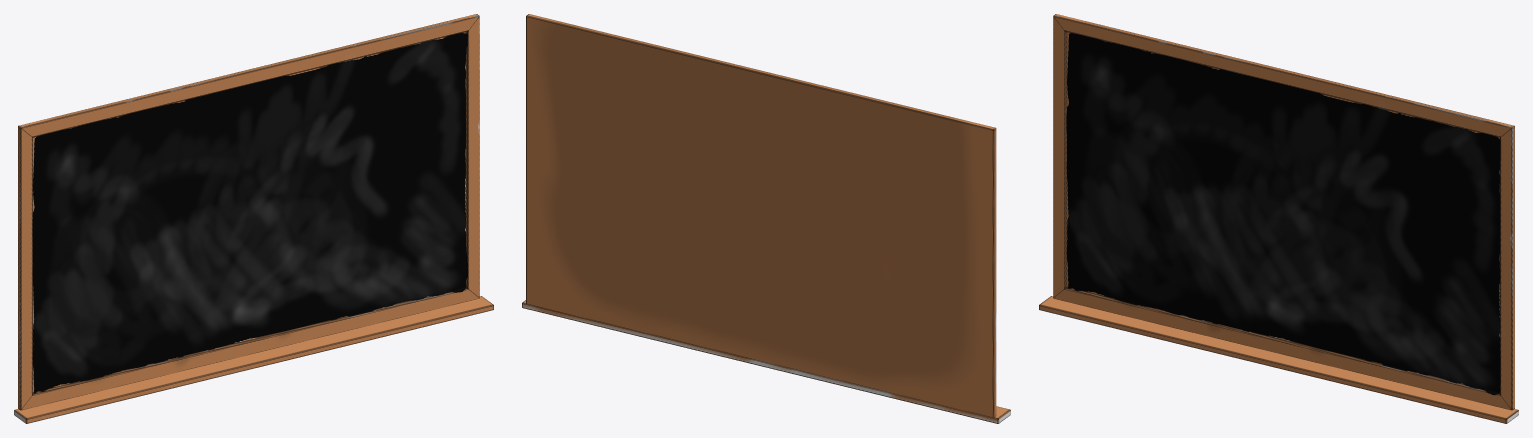
File: BlackBoard_Asset.fbx
3 views of the same model, side by side, from view 1: azimuth 30°, elevation 25°; view 2: azimuth 150°, elevation 25°; view 3: azimuth 330°, elevation 25° (orthographic).
Visible parts, largest first — view 1: BlackBoard_Asset; view 2: BlackBoard_Asset; view 3: BlackBoard_Asset.
Boxes of the visible parts, x1,y1,x2,y2 form: BlackBoard_Asset: (14, 14, 493, 423); BlackBoard_Asset: (522, 14, 1010, 423); BlackBoard_Asset: (1039, 14, 1518, 423).
Bounding box in the file's own units: 346 × 204 × 16.55.
